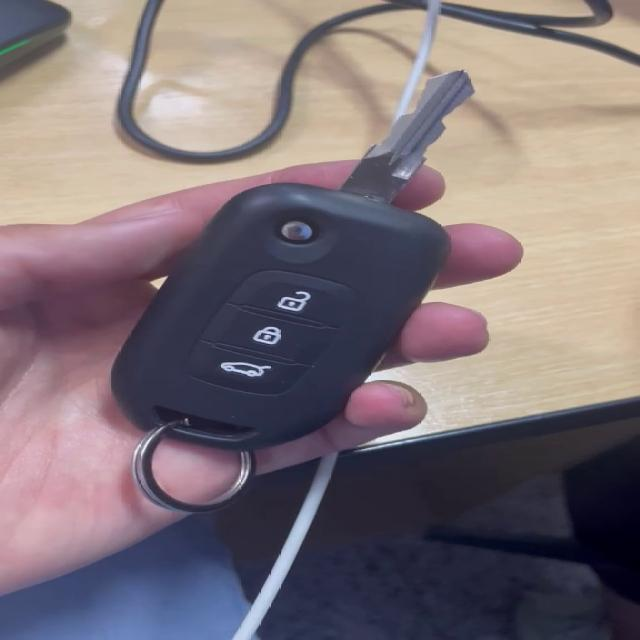llave-auto: (132, 75, 480, 509)
